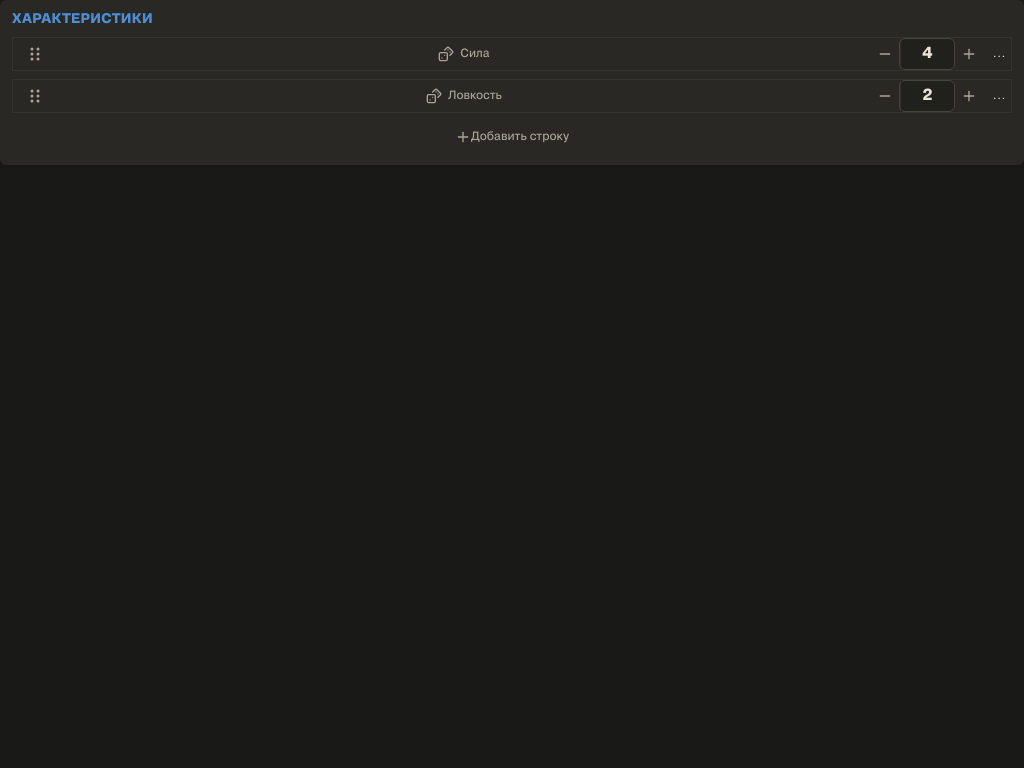
Test: карточка группы характеристик › does not intercept Escape owned by a nested dialog
Click the heading named "Действия строки «Ловкость»" at (999,96), box [992, 89, 1006, 102]
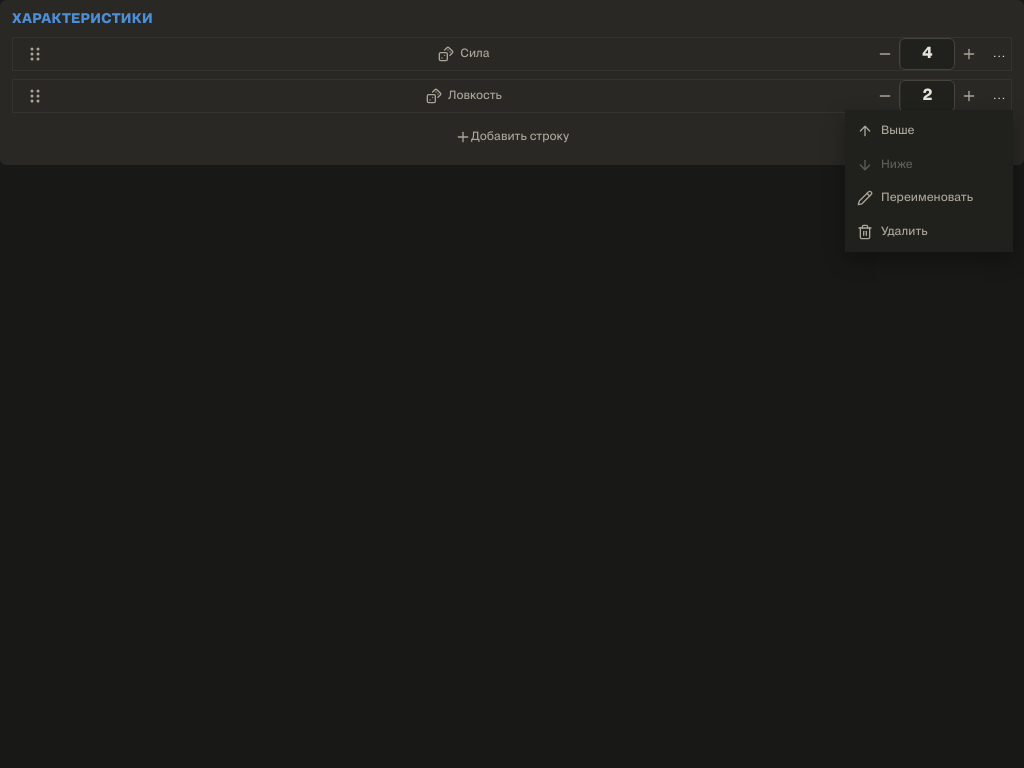
Click the button with aria-label "Переименовать «Ловкость»" at (929,198), box [849, 181, 1009, 215]
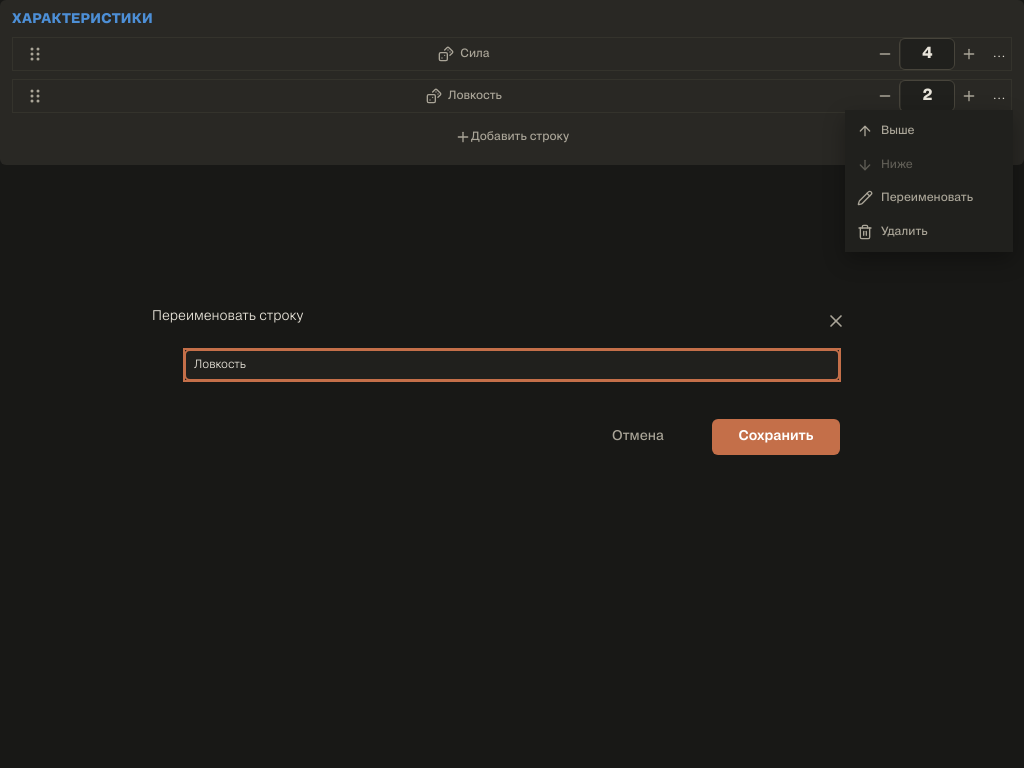
Check: the dialog is shown, box [152, 285, 872, 483]
Press Escape in the field named "Название", box [194, 351, 830, 379]
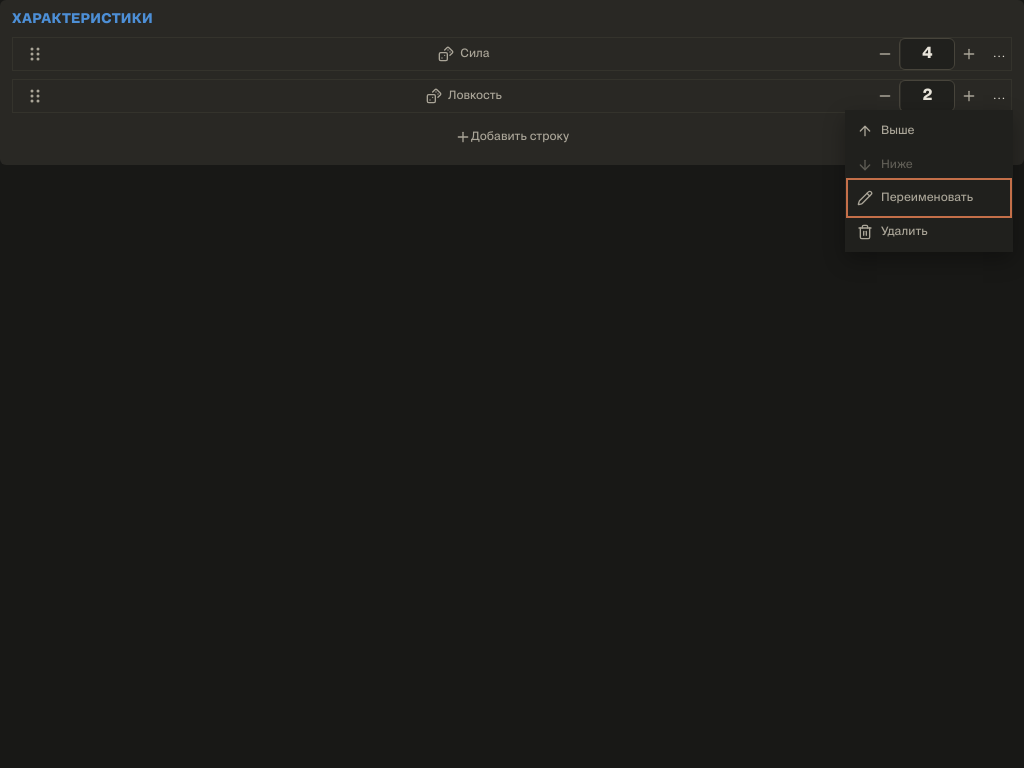
Check: the dialog is gone
